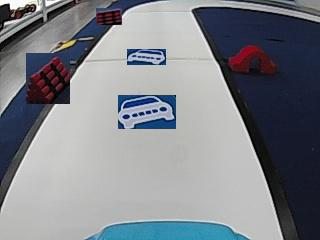bridge: (229, 44, 275, 72)
